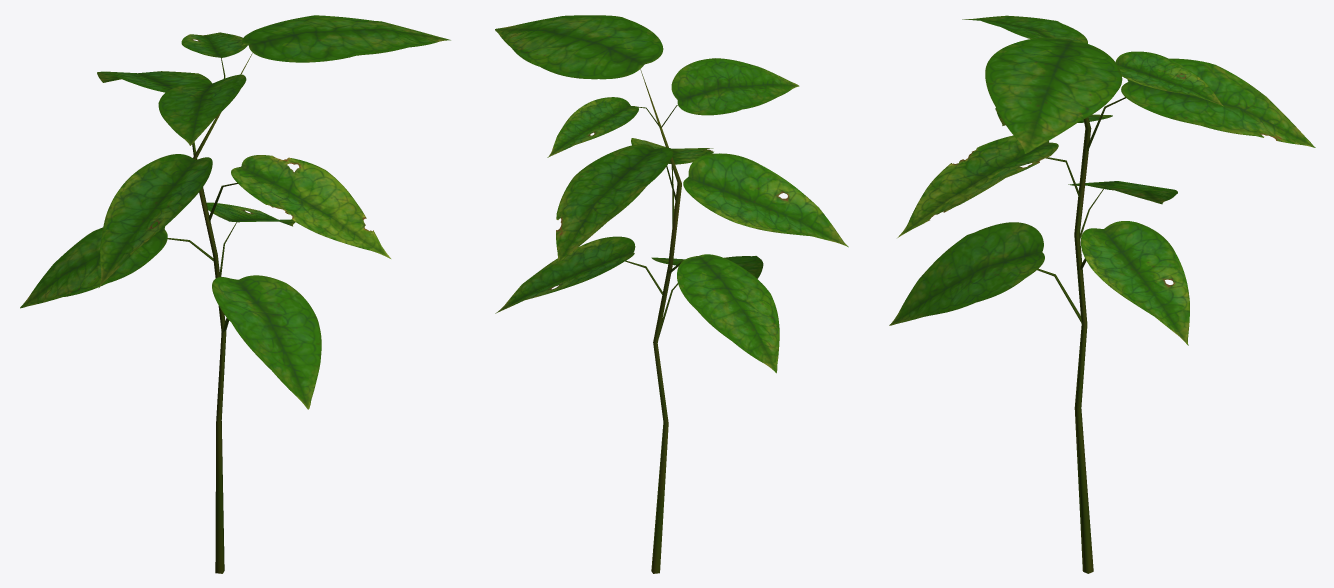
File: Small_Plant_A1.FBX
3 renders of one model, left to right at view 1: azimuth 30°, elevation 25°; view 2: azimuth 150°, elevation 25°; view 3: azimuth 270°, elevation 25°, orthographic. The views are drawn at different scales.
Parts seen in each view (by area): view 1: Small_Plant_A1; view 2: Small_Plant_A1; view 3: Small_Plant_A1.
Boxes of the visible parts, <box> form: Small_Plant_A1: <box>20,15,450,573</box>; Small_Plant_A1: <box>495,15,848,573</box>; Small_Plant_A1: <box>889,15,1315,573</box>.
Size of the model in its own units: 110 by 149 by 108.
